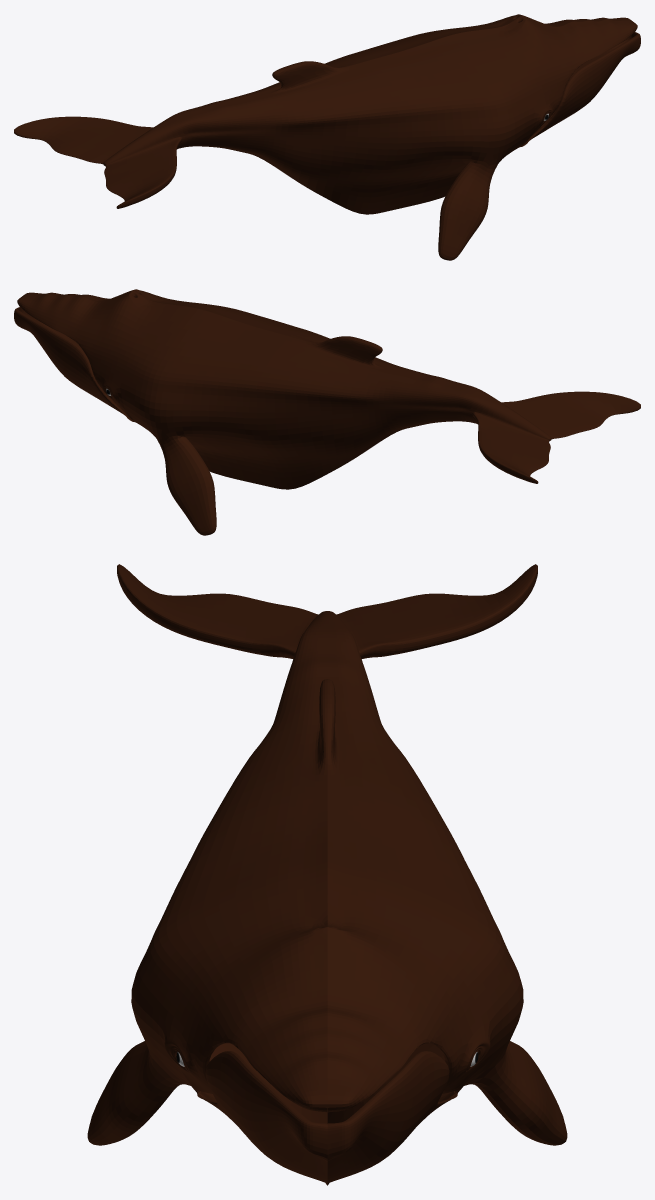
Rendered from 4.BallenaJorobada.glb.
The picture shows the model from 3 angles, top to bottom: view 1: azimuth 30°, elevation 25°; view 2: azimuth 150°, elevation 25°; view 3: azimuth 270°, elevation 25°; orthographic projection. The views are drawn at different scales.
Visible parts, largest first — view 1: Cube; view 2: Cube; view 3: Cube.
Part boxes in pixels (x1,y1,x2,y2): Cube: (14,14,640,260); Cube: (14,289,640,535); Cube: (87,564,567,1185).
Bounding box in the file's own units: 9.95 × 2.95 × 3.62.
2 materials, 1 textured.
